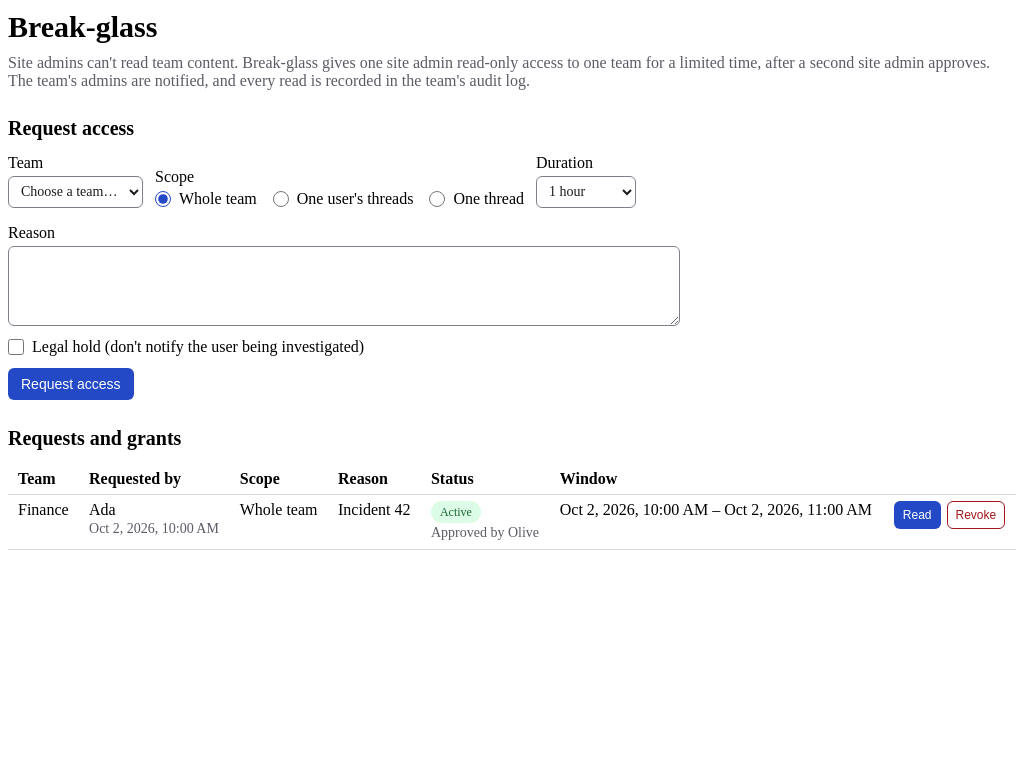
Test: site break-glass page › shows a revoked or expired grant's refusal on the next read
The width and height of the screenshot is (1024, 768).
Click the button "Read" at (917, 514), box x1=894 y1=500 x2=940 y2=528
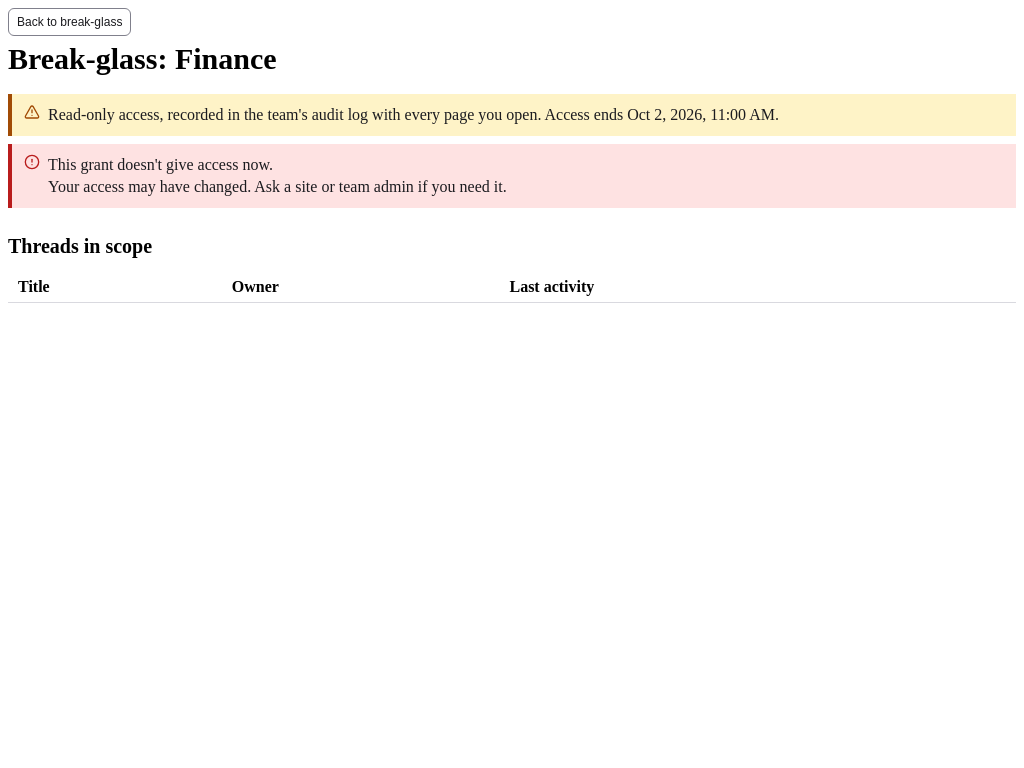
Expected: the message shows "doesn't give access now", x1=48 y1=156 x2=273 y2=172
